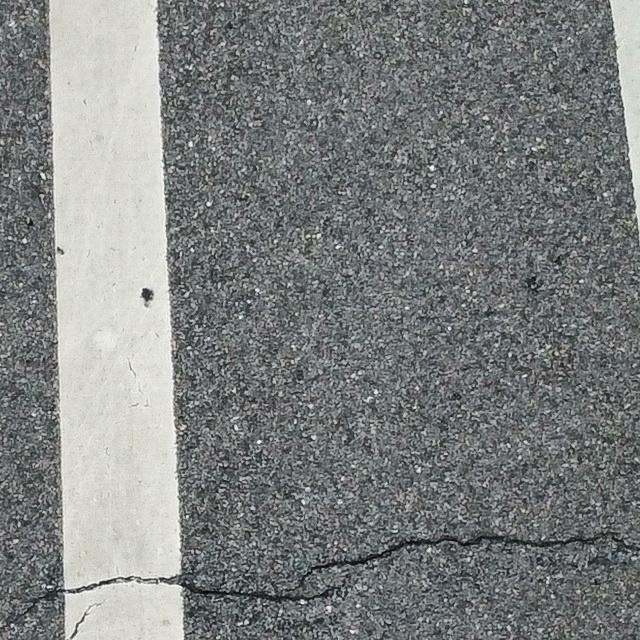TransverseCrack: (1, 532, 639, 631)
